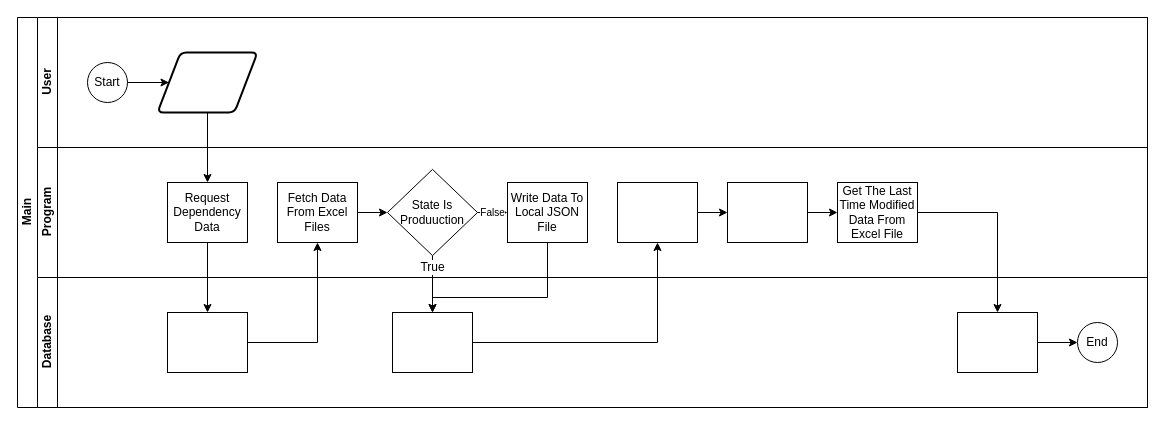
Some shapes in this 1165 by 425 pixel diagram are drawn without their labels. Each missing label, with the centre of its shape:
"Convert Summary Excel Files To PDF" belongs at (x=767, y=212).
"Create Summary Excel Files" belongs at (x=657, y=212).
"Retrieve Dependency Data" belongs at (x=207, y=342).
"Run Program" belongs at (x=207, y=82).
"Upload Data To Database" belongs at (x=432, y=342).
"Upload The Last Time Modified Data To Database" belongs at (x=997, y=342).
